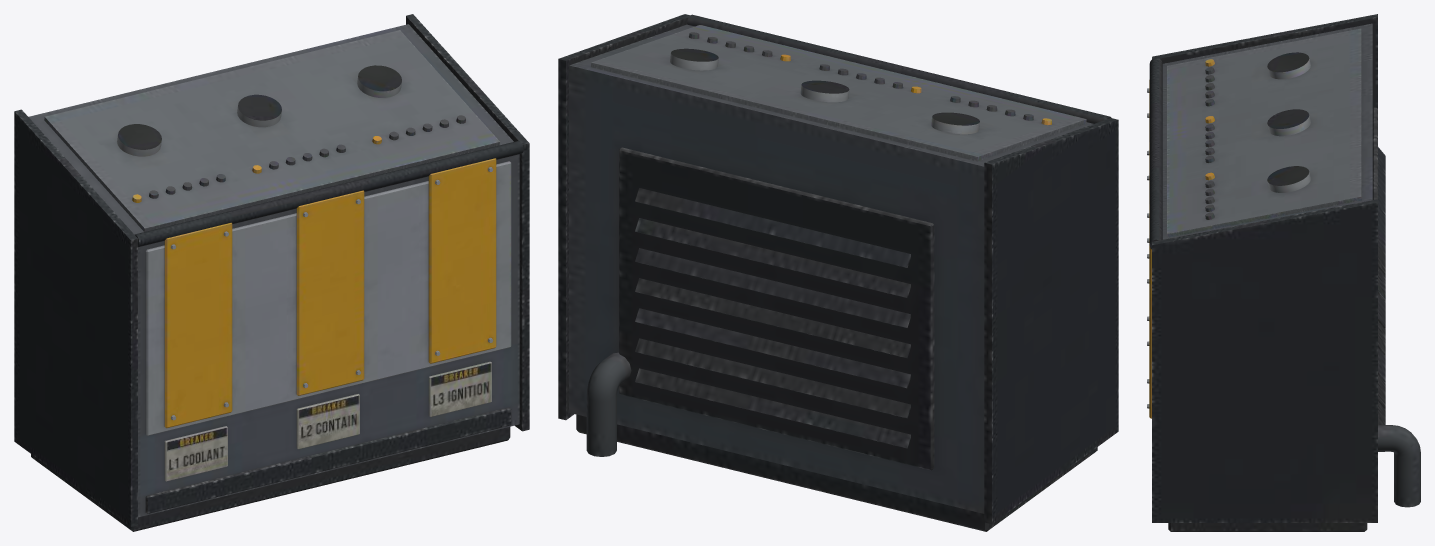
The model's file is rdesk.glb.
3 views of the same model, side by side, from view 1: azimuth 30°, elevation 25°; view 2: azimuth 150°, elevation 25°; view 3: azimuth 270°, elevation 25° (orthographic). The views are drawn at different scales.
Visible parts, largest first — view 1: GEO_S3_ReactorControlDesk_Controls_001, GEO_S3_ReactorControlDesk_001; view 2: GEO_S3_ReactorControlDesk_001, GEO_S3_ReactorControlDesk_Controls_001; view 3: GEO_S3_ReactorControlDesk_001, GEO_S3_ReactorControlDesk_Controls_001.
Boxes of the visible parts, <box> form: GEO_S3_ReactorControlDesk_Controls_001: <box>44,30,511,481</box>; GEO_S3_ReactorControlDesk_001: <box>14,14,529,531</box>; GEO_S3_ReactorControlDesk_001: <box>558,14,1118,531</box>; GEO_S3_ReactorControlDesk_Controls_001: <box>590,25,1086,161</box>; GEO_S3_ReactorControlDesk_001: <box>1149,14,1420,531</box>; GEO_S3_ReactorControlDesk_Controls_001: <box>1147,28,1361,418</box>.
Size of the model in its own units: 1.66 by 1.38 by 1.02.
Materials: 2 (2 with a texture image).
